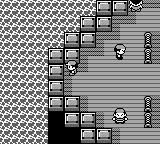captura: (0, 0, 96, 143)
main: (66, 60, 79, 75)
no-caminable: (48, 0, 128, 143), (48, 112, 81, 143)
npc: (112, 108, 128, 124), (114, 45, 127, 60), (129, 0, 143, 11)
